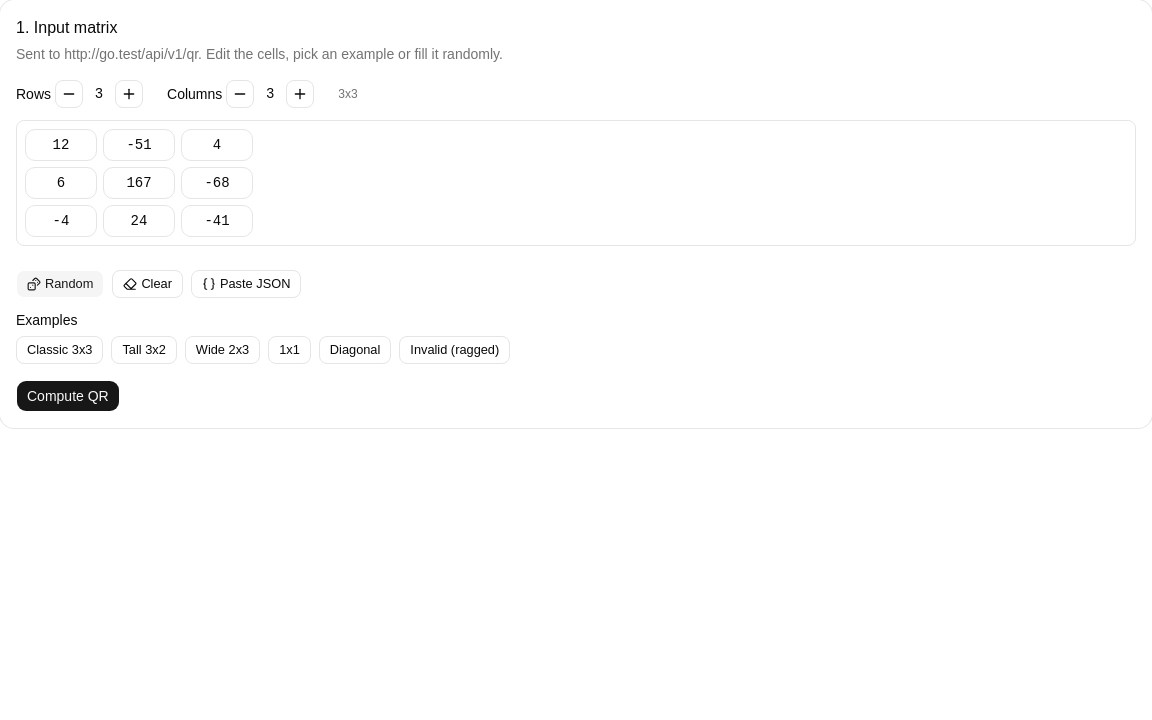
Scenario: QrPanel › flags non-numeric cells and moves with the arrow keys
Replace the text in the field named "Row 1, column 1" with "abc" at (61, 145), box [25,129,97,161]
Then press Arrowdown
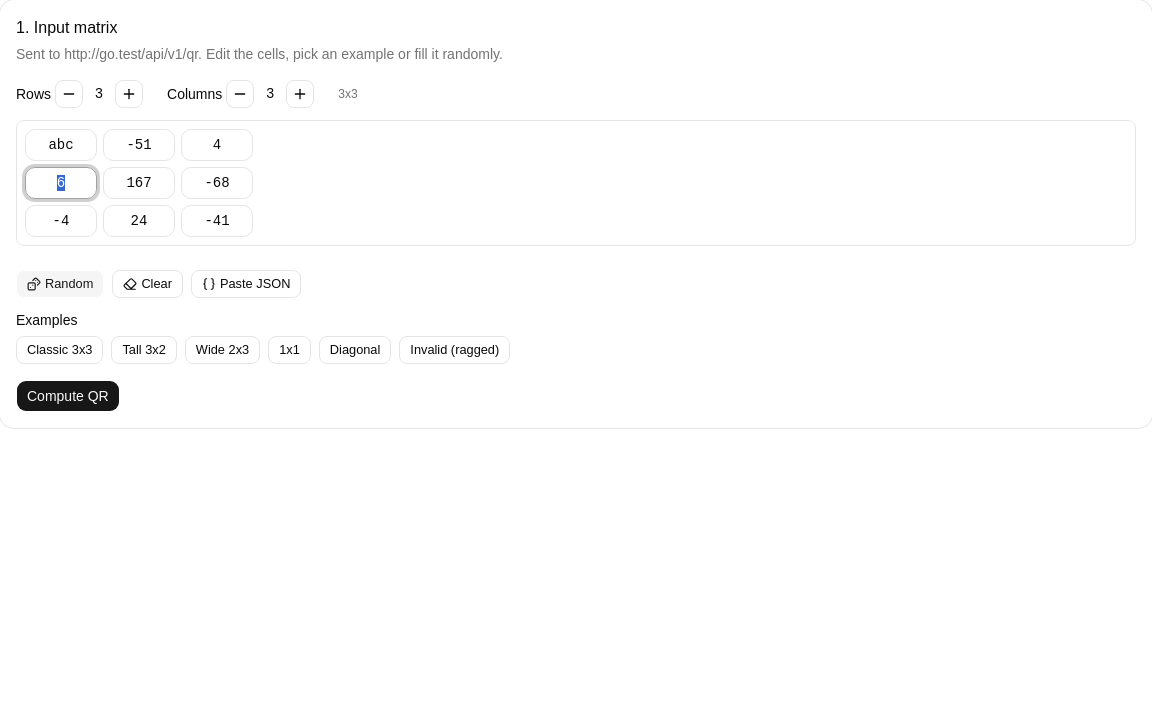
Click the button "Compute QR" at (68, 396), box [16,380,120,412]
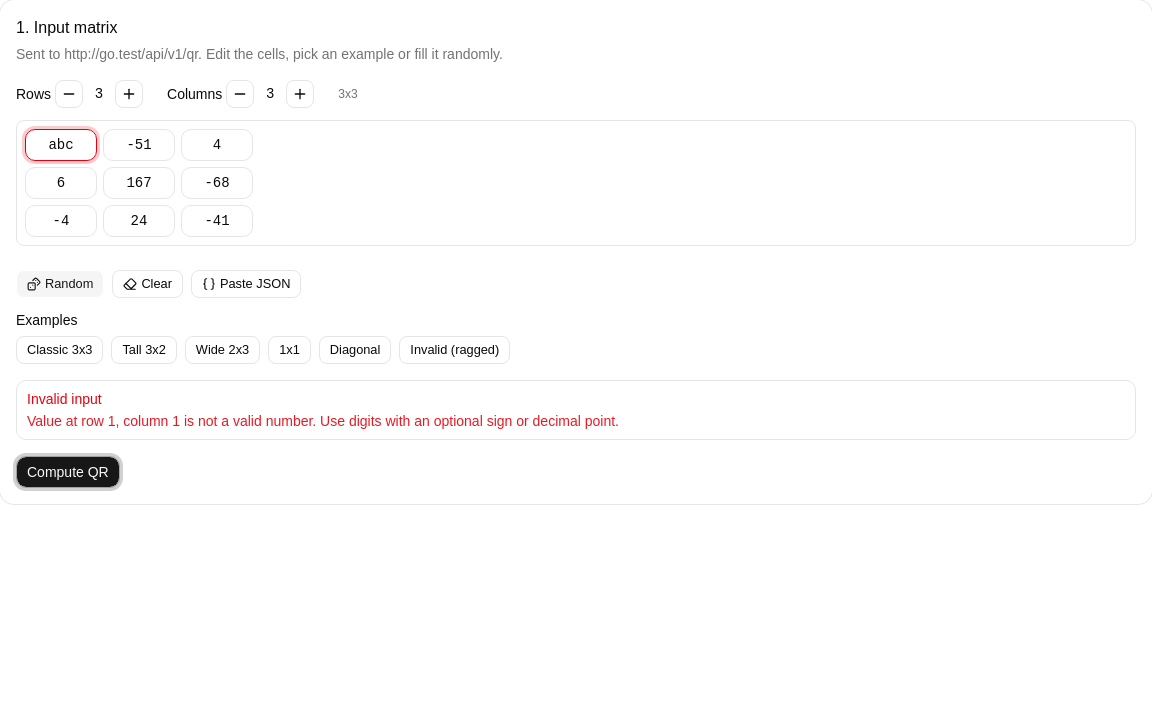
Now the text "not a valid number" is shown, box [27,413,619,429]
